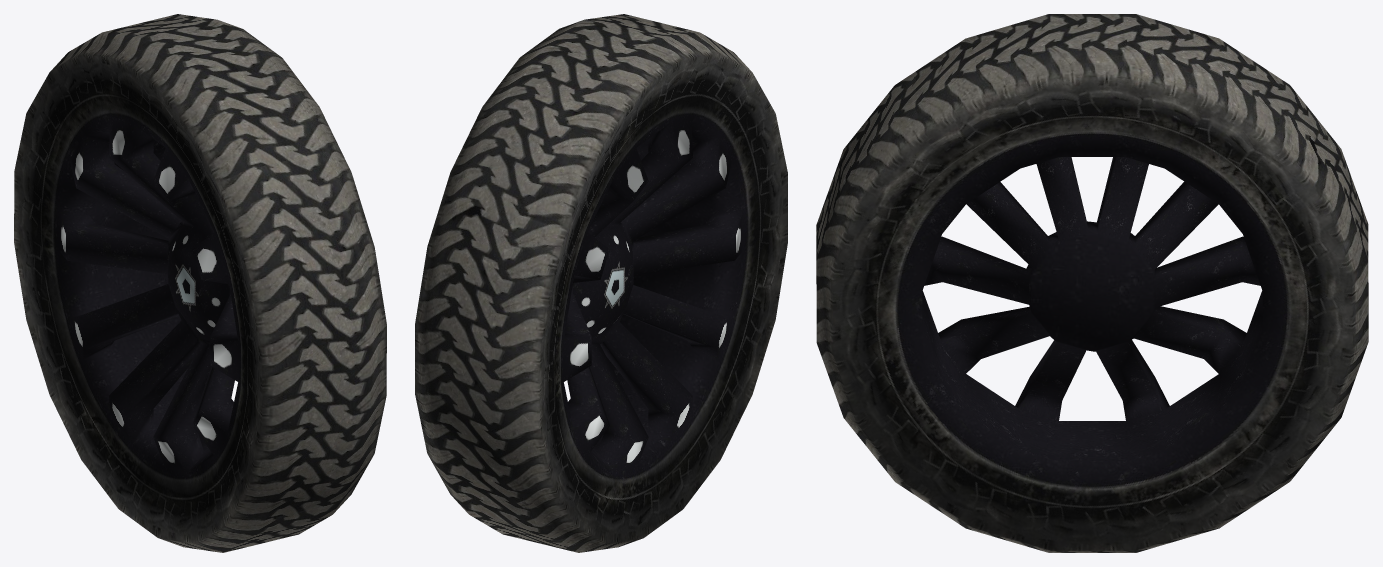
Rendered from Wheel.fbx.
The picture shows the model from 3 angles, left to right: view 1: azimuth 30°, elevation 25°; view 2: azimuth 150°, elevation 25°; view 3: azimuth 270°, elevation 25°; orthographic projection. The views are drawn at different scales.
Parts seen in each view (by area): view 1: Object_4; view 2: Object_4; view 3: Object_4.
Part boxes in pixels (x1,y1,x2,y2): Object_4: (14, 14, 386, 552); Object_4: (415, 14, 787, 552); Object_4: (816, 14, 1368, 552).
Size of the model in its own units: 92.74 by 341 by 341.
1 material, 1 textured.
